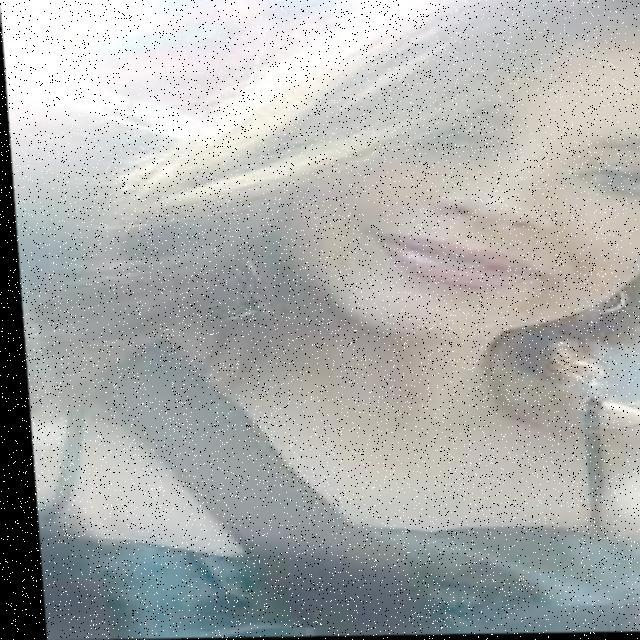seatbelt: (21, 344, 470, 640)
